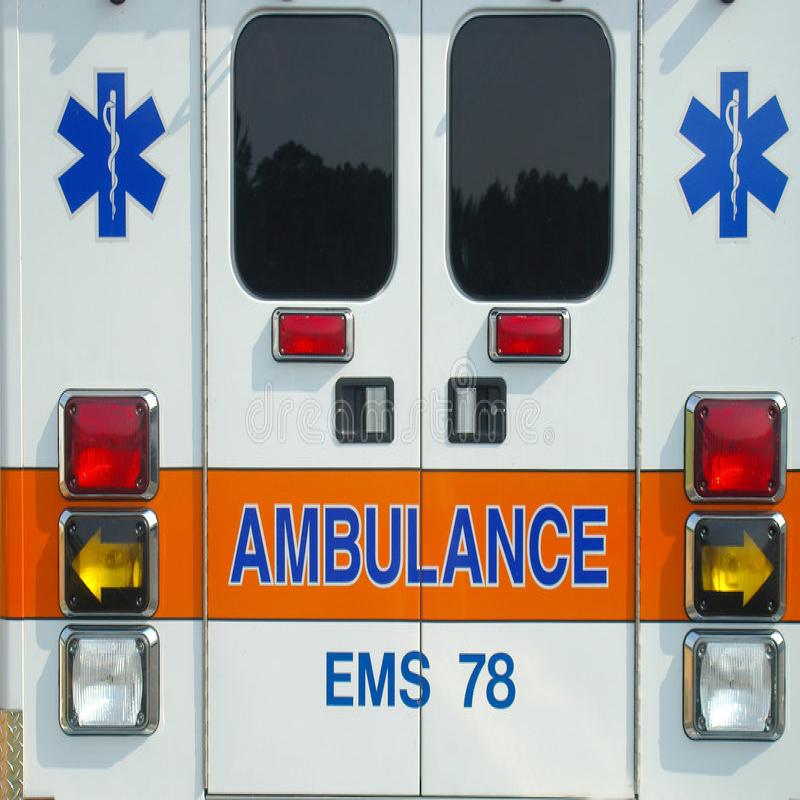ambulance: (10, 13, 800, 800)
